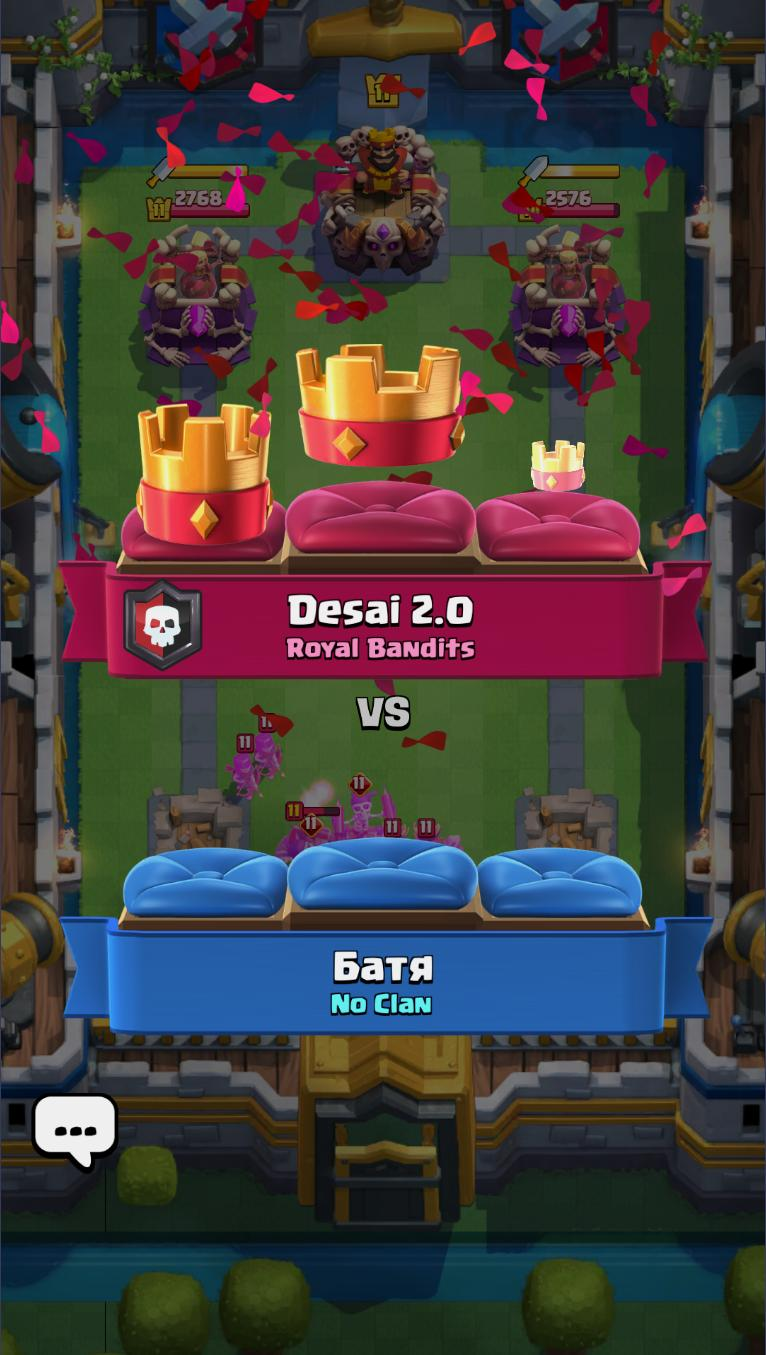Archer: (224, 731, 266, 799), (250, 707, 287, 783)
BushGoblins: (411, 817, 466, 849)
DaggerDuchess: (170, 226, 224, 296), (546, 233, 594, 301)
Daggers: (146, 153, 251, 190), (516, 156, 623, 190)
EnemyTower: (506, 221, 630, 374), (137, 224, 263, 373)
EvoWallBreackers: (333, 779, 394, 843)
KingTower: (311, 123, 454, 280)
Knight: (269, 803, 340, 863)
MyPrincessTowerBrocken: (140, 790, 249, 857), (516, 796, 621, 854)
TowerPrincessHP: (519, 186, 624, 226), (146, 186, 253, 223)
